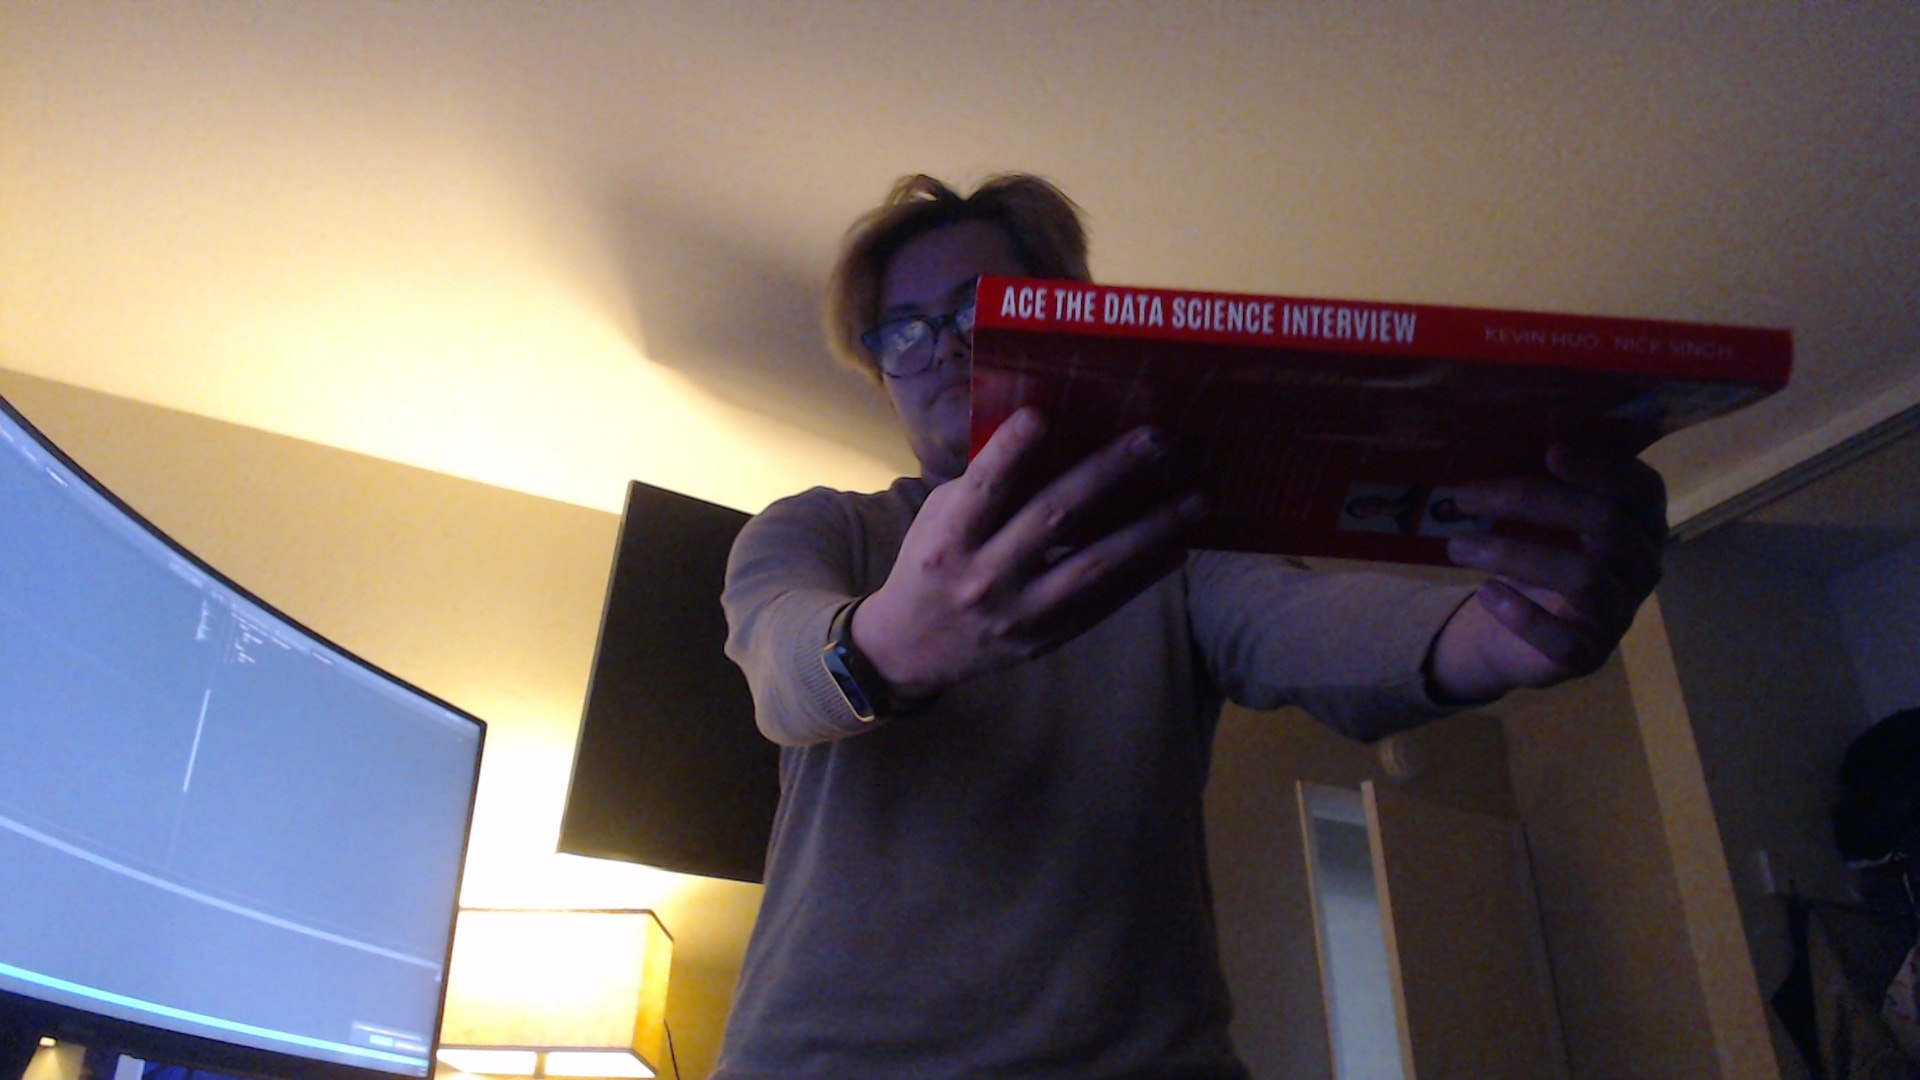book: (967, 266, 1800, 576)
